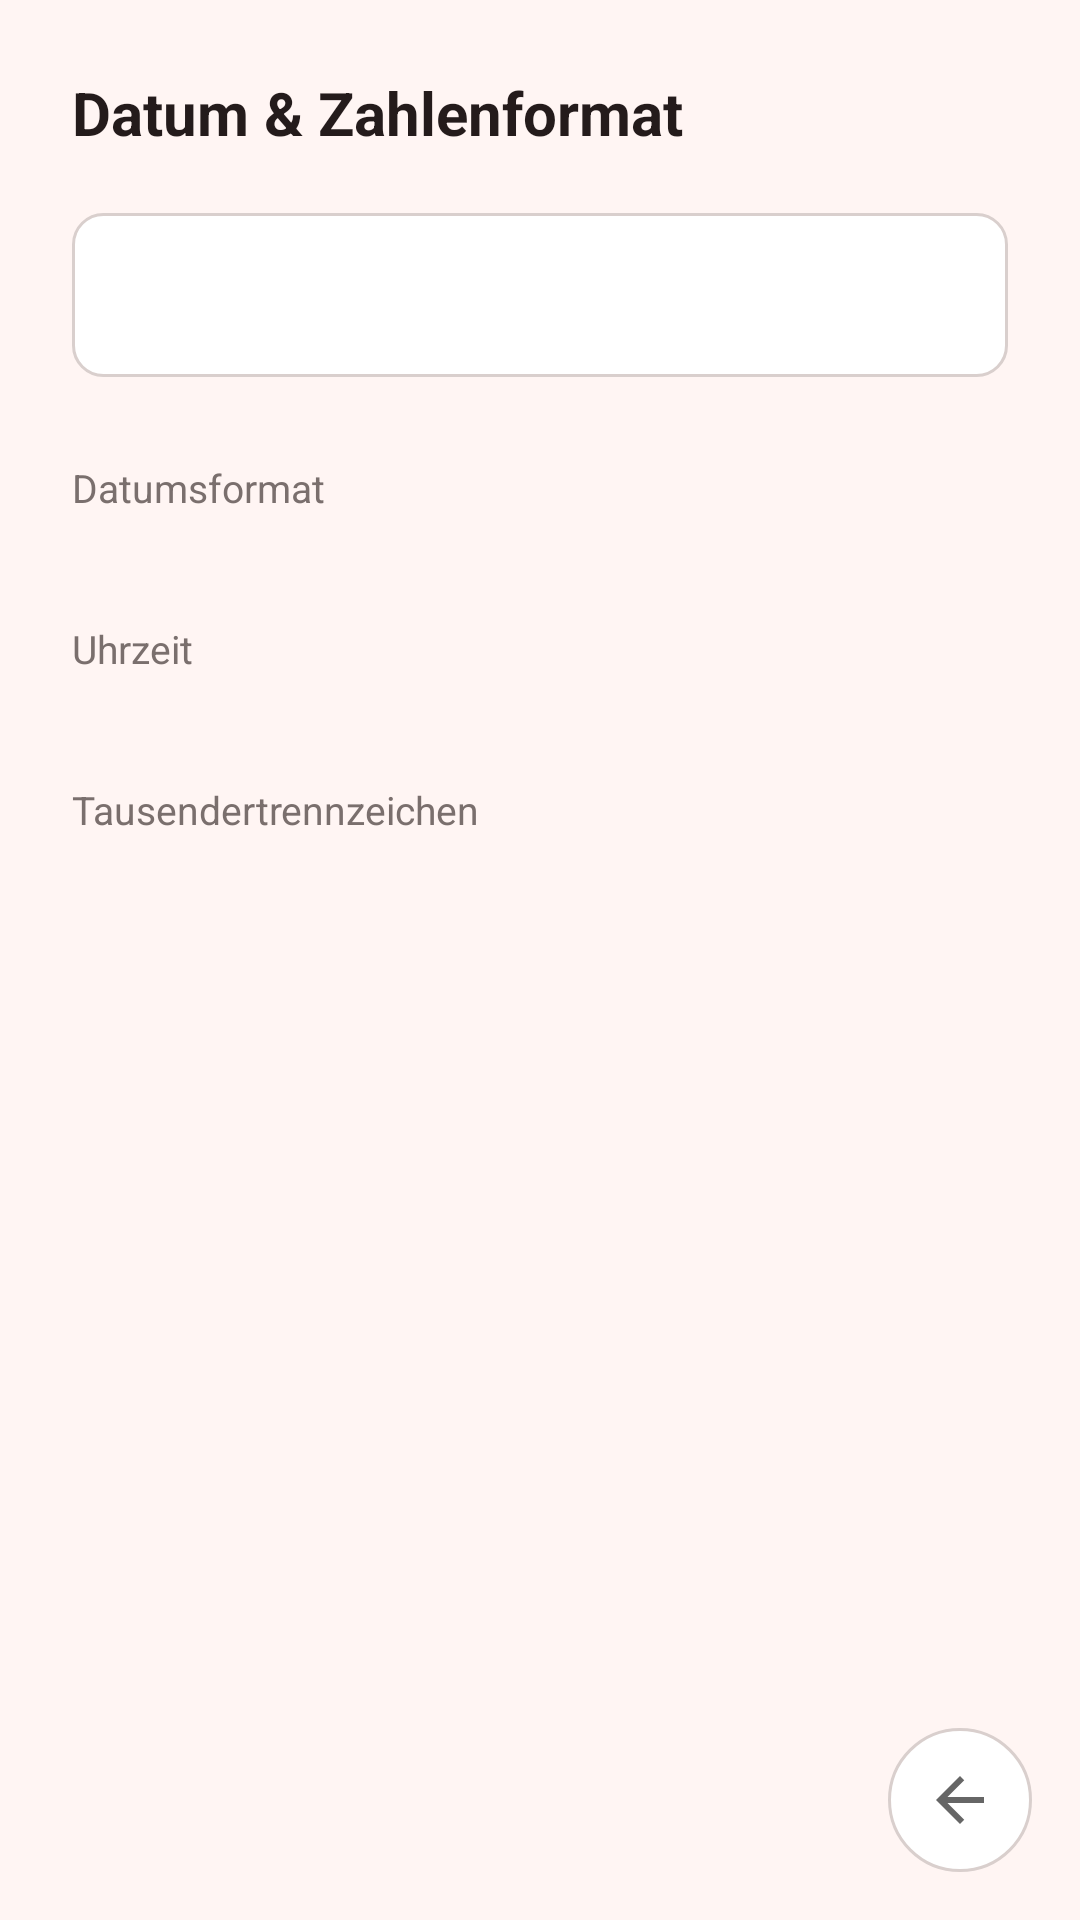

Point at icon controls on the screen. Image size 1080×1920, points as (x,y).
Zurück: (960,1800)
